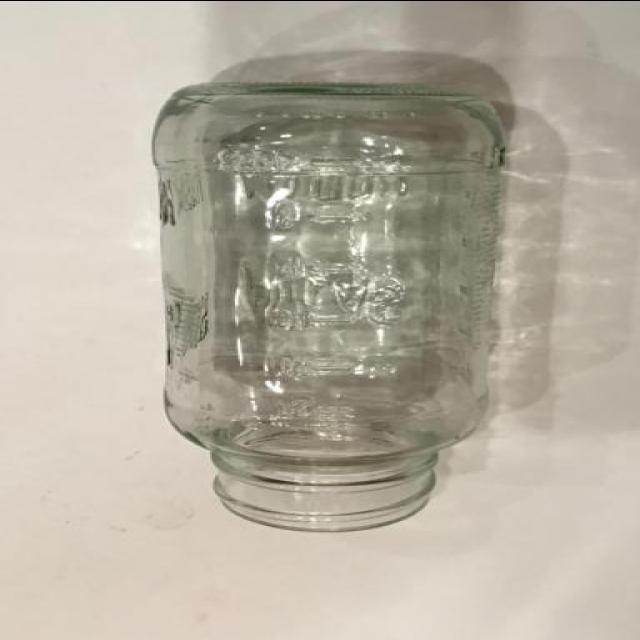litter: (158, 81, 512, 539)
